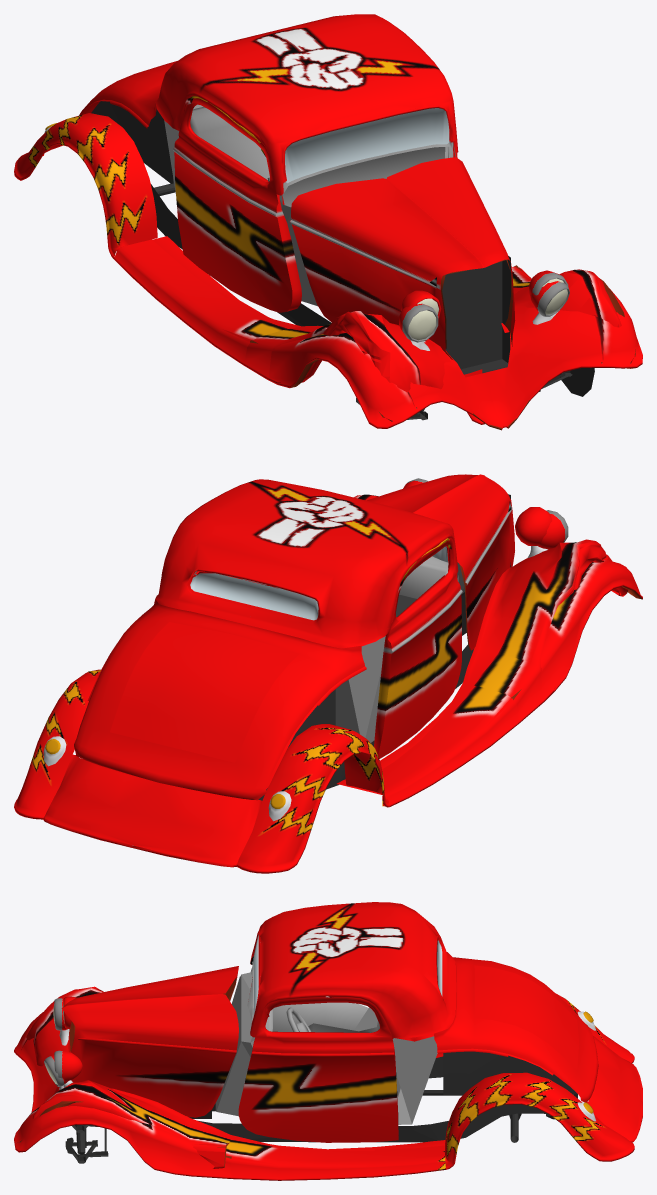
Rendered from HotRodOld.fbx.
3 renders of one model, top to bottom at view 1: azimuth 30°, elevation 25°; view 2: azimuth 150°, elevation 25°; view 3: azimuth 270°, elevation 25°, orthographic. The views are drawn at different scales.
Visible parts, largest first — view 1: Roof, Interior, RHood, FRDoor, FRWing, FLWing, RRWing, RFootplate, FRWing.Crunch, LHood, FLWing.Crunch, Tail; view 2: Tail, Roof, Trunk, FRWing.Crunch, FRDoor, RRWing, RFootplate, RHood, Interior, FRWing, RLWing, LHood (+1 smaller); view 3: Roof, FLDoor, LHood, Interior, Tail, FLWing, LFootplate, RLWing, Trunk, FLWing.Crunch, RHood, FRDoor (+4 smaller).
Boxes of the visible parts, x1,y1,x2,y2 form: Roof: (155,14,458,195); Interior: (91,101,594,420); RHood: (290,178,484,350); FRDoor: (173,98,301,312); FRWing: (260,303,504,430); FLWing: (486,270,642,428); RRWing: (14,113,157,258); RFootplate: (113,236,300,364); FRWing.Crunch: (243,290,484,424); LHood: (387,157,515,334); FLWing.Crunch: (511,265,624,327); Tail: (43,72,163,155); Tail: (43,599,366,867); Roof: (155,479,458,648); Trunk: (110,622,299,762); FRWing.Crunch: (463,507,628,722); FRDoor: (374,538,462,758); RRWing: (236,724,389,873); RFootplate: (337,683,519,806); RHood: (413,474,514,650); Interior: (251,494,510,800); FRWing: (468,510,642,710); RLWing: (14,669,100,819); LHood: (366,474,477,512); Roof: (250,902,455,1037); FLDoor: (238,997,398,1142); LHood: (62,994,238,1117); Interior: (65,961,577,1163); Tail: (434,957,642,1142); FLWing: (14,1050,231,1178); LFootplate: (230,1135,445,1180); RLWing: (445,1072,634,1169); Trunk: (474,965,579,1069); FLWing.Crunch: (33,1055,230,1168); RHood: (62,966,238,1052); FRDoor: (247,977,368,1031).
Size of the model in its own units: 1.77 by 1.46 by 4.12.
